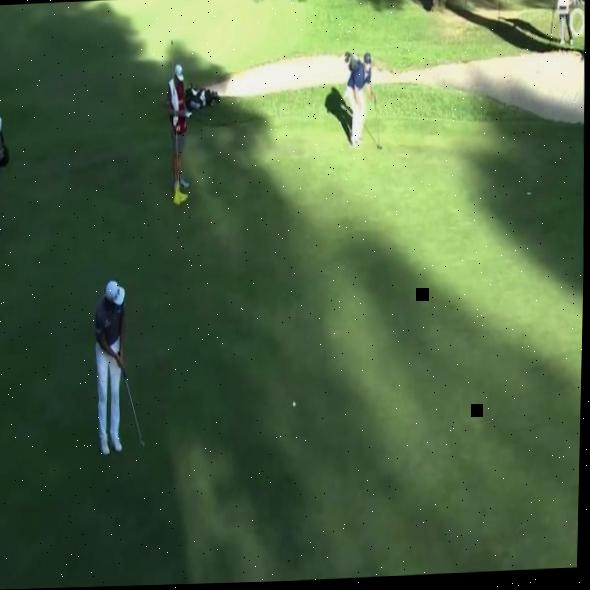ClubHead: (137, 434, 150, 454)
GolfBall: (290, 400, 301, 412)
